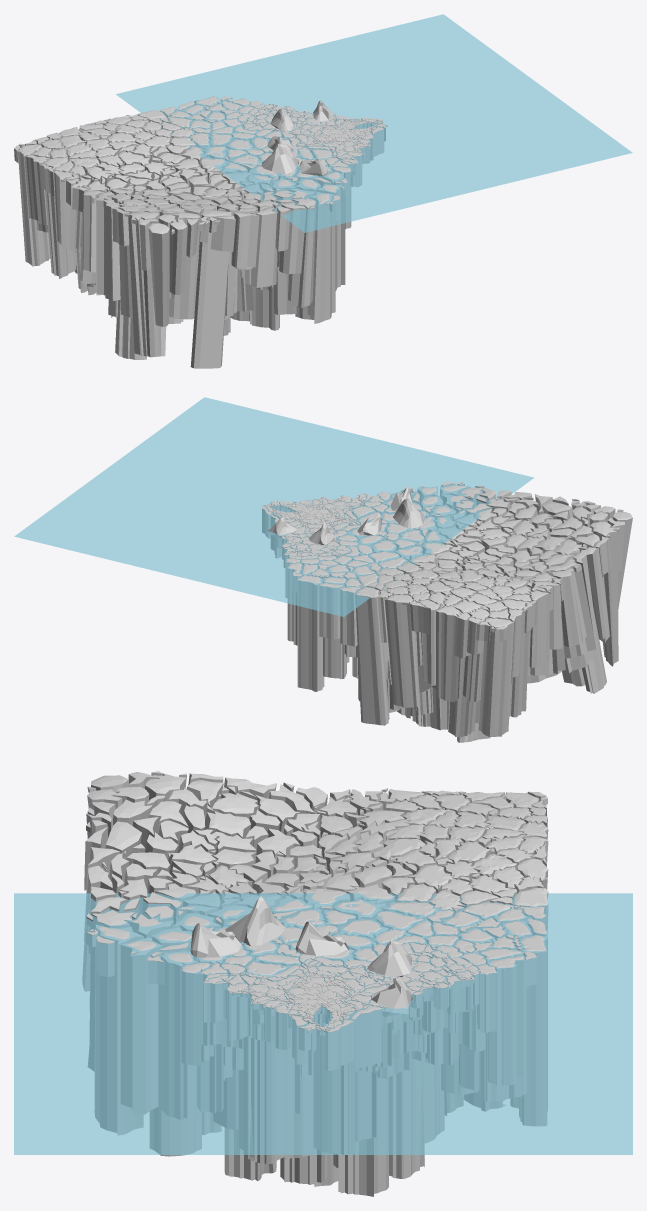
Rendered from bckg.glb.
3 views of the same model, one above another, from view 1: azimuth 30°, elevation 25°; view 2: azimuth 150°, elevation 25°; view 3: azimuth 270°, elevation 25° (orthographic). The views are drawn at different scales.
Parts seen in each view (by area): view 1: ice_bckg, Plane.015, Quadsphere.011; view 2: ice_bckg, Plane.015, Quadsphere.011; view 3: ice_bckg, Plane.015, Quadsphere.011, Quadsphere.010, Quadsphere.012, Quadsphere.014, Quadsphere.013.
Boxes of the visible parts, x1,y1,x2,y2 form: ice_bckg: [14, 96, 387, 368]; Plane.015: [116, 14, 632, 232]; Quadsphere.011: [261, 143, 298, 174]; ice_bckg: [262, 481, 632, 742]; Plane.015: [14, 397, 533, 616]; Quadsphere.011: [393, 498, 424, 530]; ice_bckg: [82, 771, 548, 1196]; Plane.015: [14, 893, 632, 1154]; Quadsphere.011: [225, 896, 285, 945]; Quadsphere.010: [190, 923, 242, 962]; Quadsphere.012: [295, 921, 348, 956]; Quadsphere.014: [365, 940, 411, 977]; Quadsphere.013: [371, 977, 412, 1016].
Size of the model in its own units: 723 by 290 by 512.
